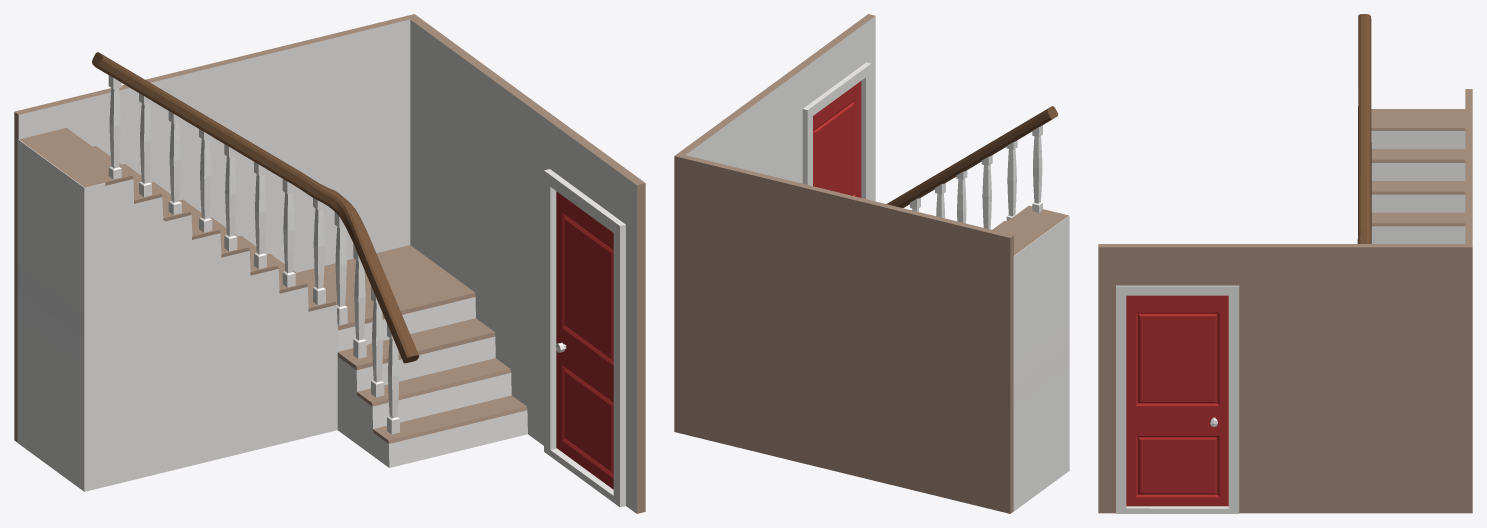
File: Wall_8.fbx
3 renders of one model, left to right at view 1: azimuth 30°, elevation 25°; view 2: azimuth 150°, elevation 25°; view 3: azimuth 270°, elevation 25°, orthographic. The views are drawn at different scales.
Visible parts, largest first — view 1: Wall_8; view 2: Wall_8; view 3: Wall_8.
Part boxes in pixels (bbox=[...]): Wall_8: bbox=[14, 14, 645, 513]; Wall_8: bbox=[674, 14, 1069, 513]; Wall_8: bbox=[1098, 14, 1472, 513].
Bounding box in the file's own units: 512 × 500 × 514.
